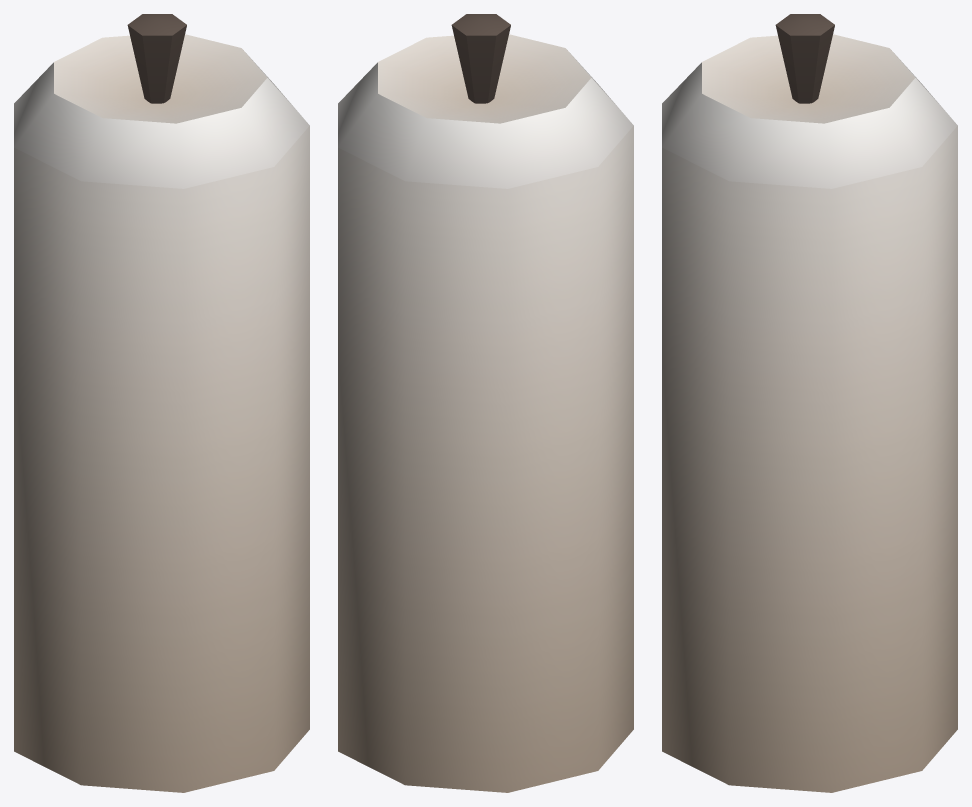
File: candle.gltf
3 views of the same model, side by side, from view 1: azimuth 30°, elevation 25°; view 2: azimuth 150°, elevation 25°; view 3: azimuth 270°, elevation 25° (orthographic).
Visible parts, largest first — view 1: candle; view 2: candle; view 3: candle.
Boxes of the visible parts, left/top/right/bottom form: candle: left=14, top=14, right=309, bottom=792; candle: left=338, top=14, right=633, bottom=792; candle: left=662, top=14, right=957, bottom=792.
Size of the model in its own units: 0.3344 by 0.873 by 0.3293.
Materials: 1 (1 with a texture image).
